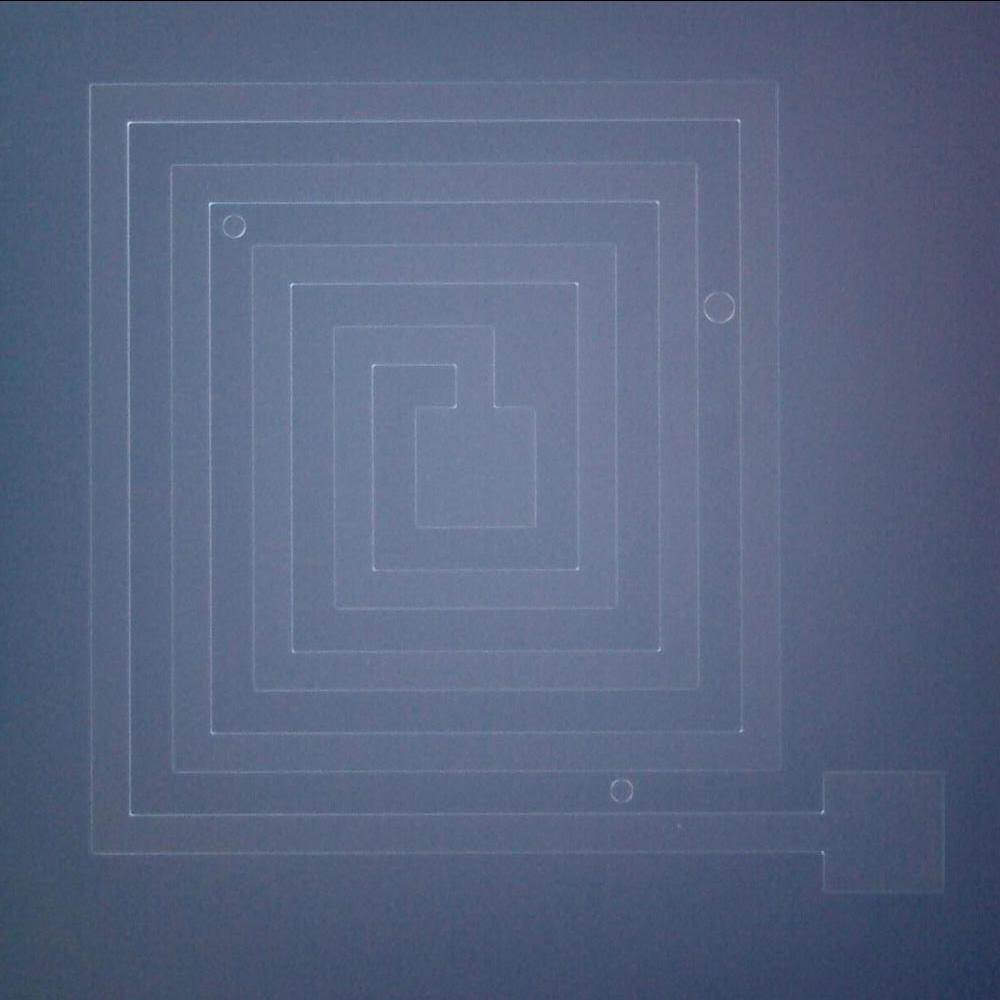circle: (696, 284, 738, 322), (217, 212, 252, 240), (606, 776, 638, 804)
